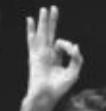left: (24, 4, 85, 96)
